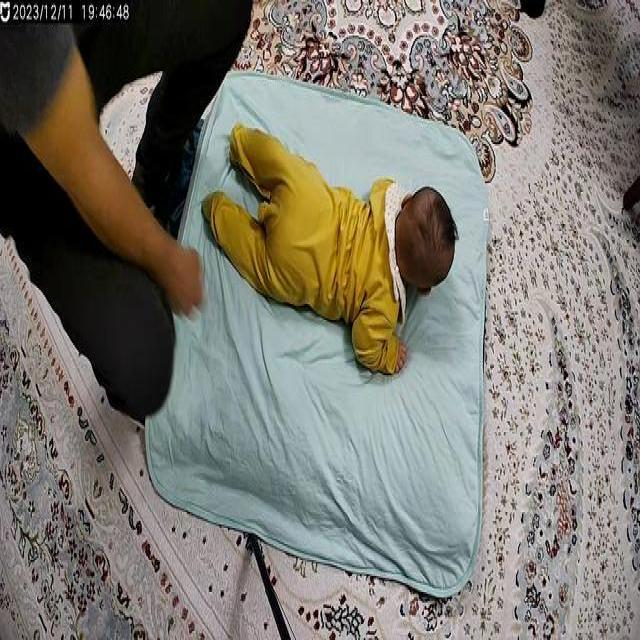baby: (200, 116, 459, 382)
